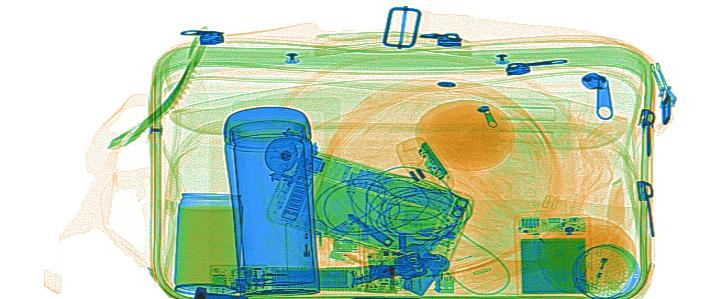battery: (269, 263, 358, 290)
lighter: (210, 260, 401, 294), (574, 217, 629, 291), (296, 217, 329, 290)
